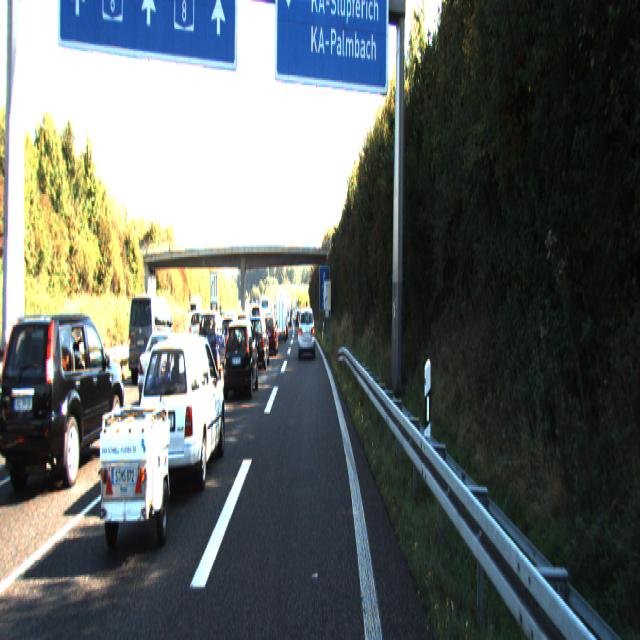Car: (0, 310, 127, 500), (136, 324, 228, 503), (95, 395, 177, 560), (137, 326, 190, 408), (128, 293, 176, 383), (222, 316, 259, 399), (196, 308, 226, 375), (244, 312, 270, 368), (298, 304, 315, 356), (261, 316, 279, 356), (274, 290, 287, 338)
